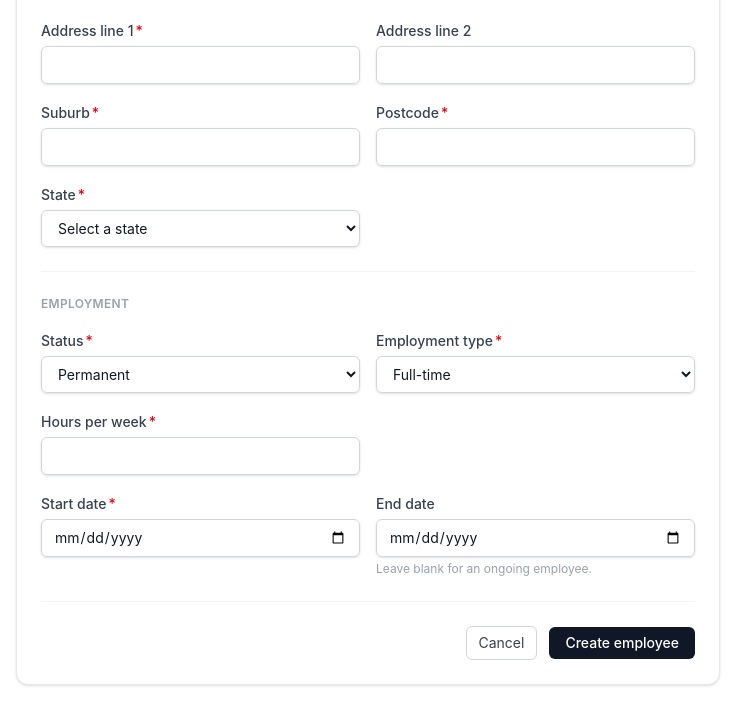
Test: EmployeeForm › blocks submission and shows field errors when required fields are empty
(page scrolled)
Click the button "Create employee": {"x": 622, "y": 643} [549, 627, 695, 659]
(page scrolled)
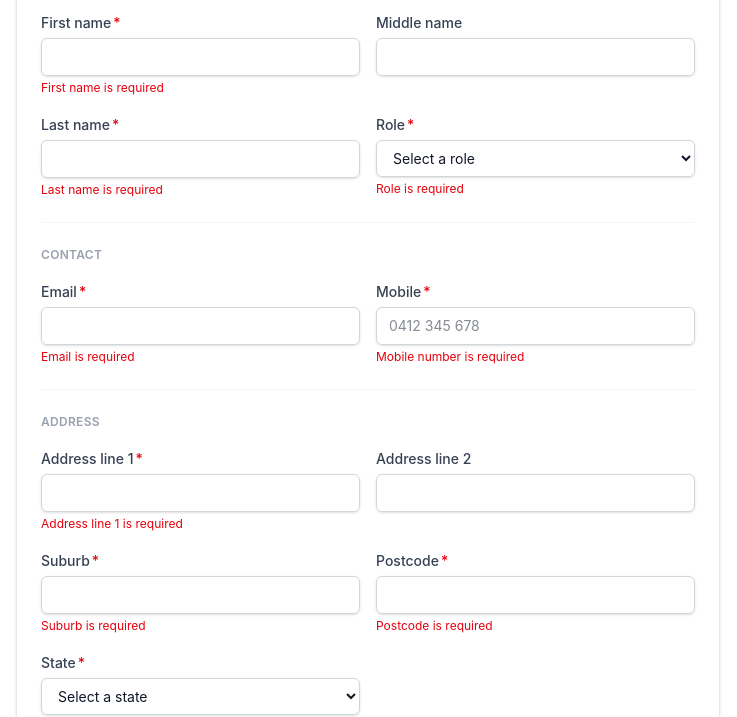
Expected: the text "First name is required" is shown, [41, 80, 164, 95]
Expected: the text "Email is required" is shown, [41, 349, 135, 364]
